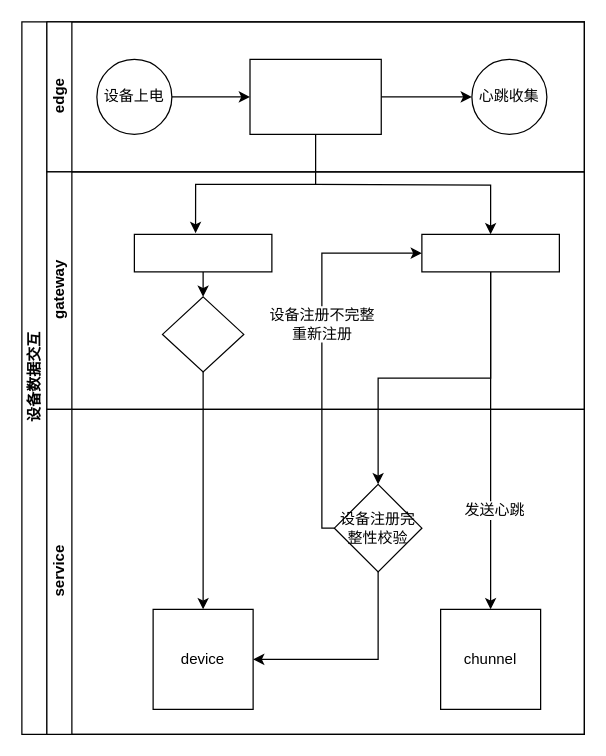
Image size: 606x756. Some labels were removed from this diagram. Here are the shapes that lost their labels. From the top down, the centre of each, then its label:
At (315,96): "fusion".
At (202,252): "注册接口".
At (490,252): "心跳接口".
At (202,334): "有效性校验&&限流".
